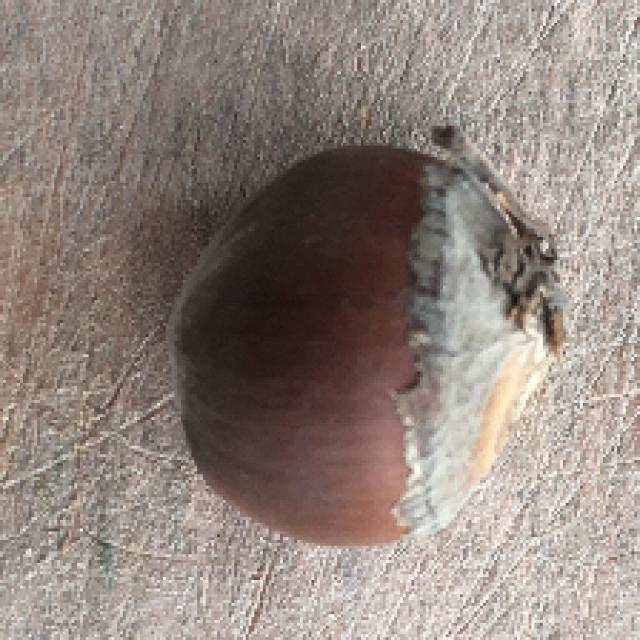damagedHazelnut: (176, 147, 561, 554)
